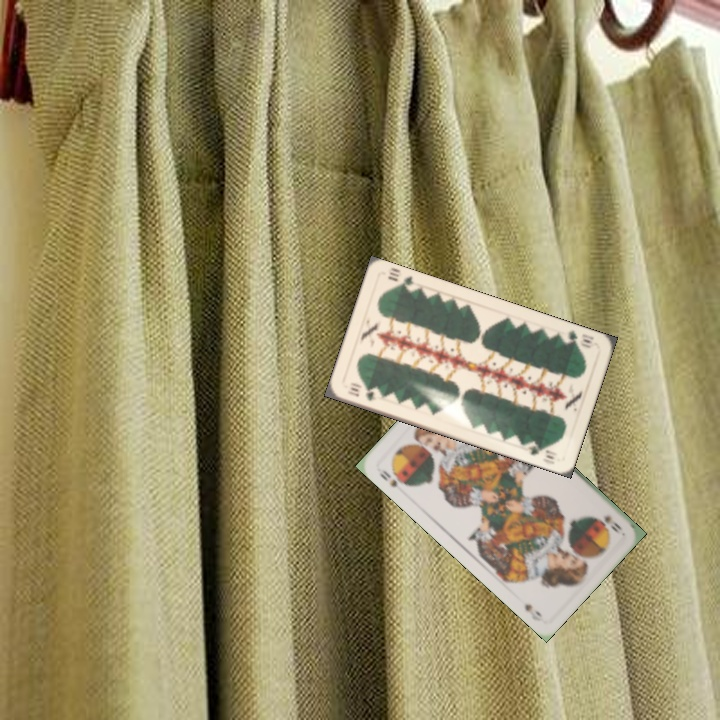G10: (557, 326, 599, 351), (343, 383, 378, 403)
SO: (376, 466, 410, 490), (599, 511, 625, 536)
